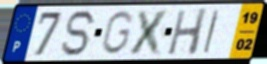7: (35, 10, 63, 58)
G: (99, 10, 136, 57)
H: (165, 7, 210, 57)
I: (201, 8, 222, 55)
S: (59, 8, 100, 58)
X: (126, 8, 173, 56)
